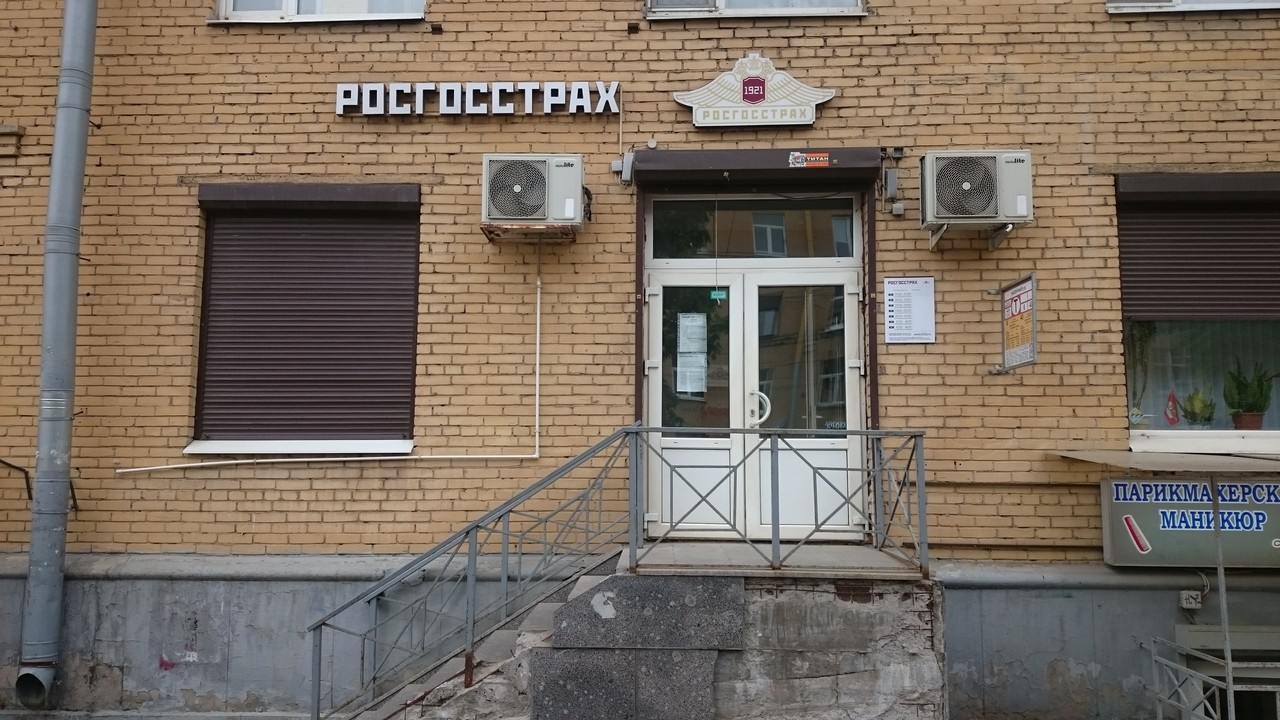door: (646, 269, 861, 540)
signboard: (675, 50, 840, 127), (332, 78, 623, 117)
window: (199, 190, 418, 436), (647, 195, 862, 263)
